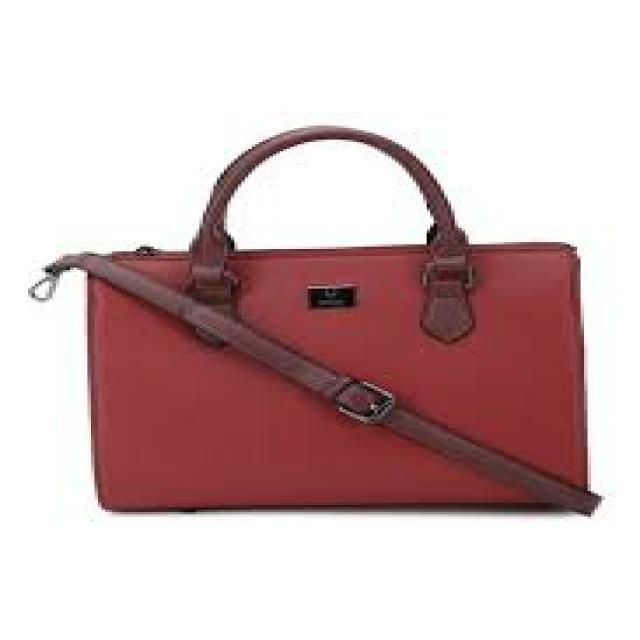handbag: (24, 123, 602, 514)
